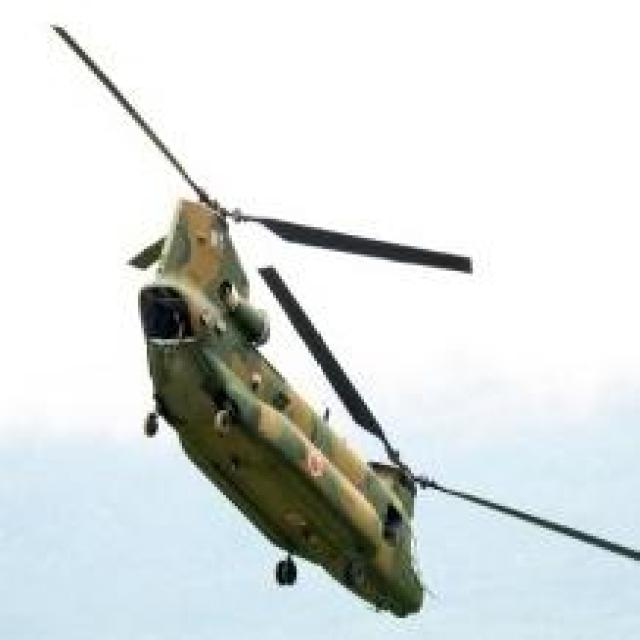Helicopter: (63, 145, 433, 640)
